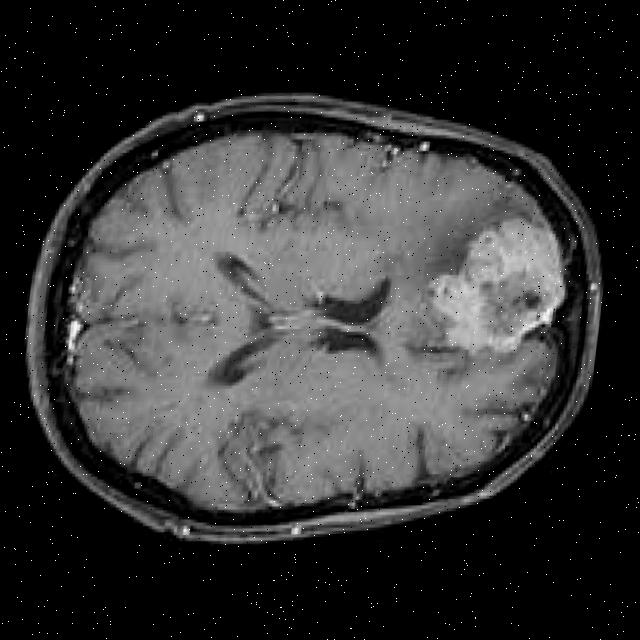Meningioma: (416, 208, 577, 364)
